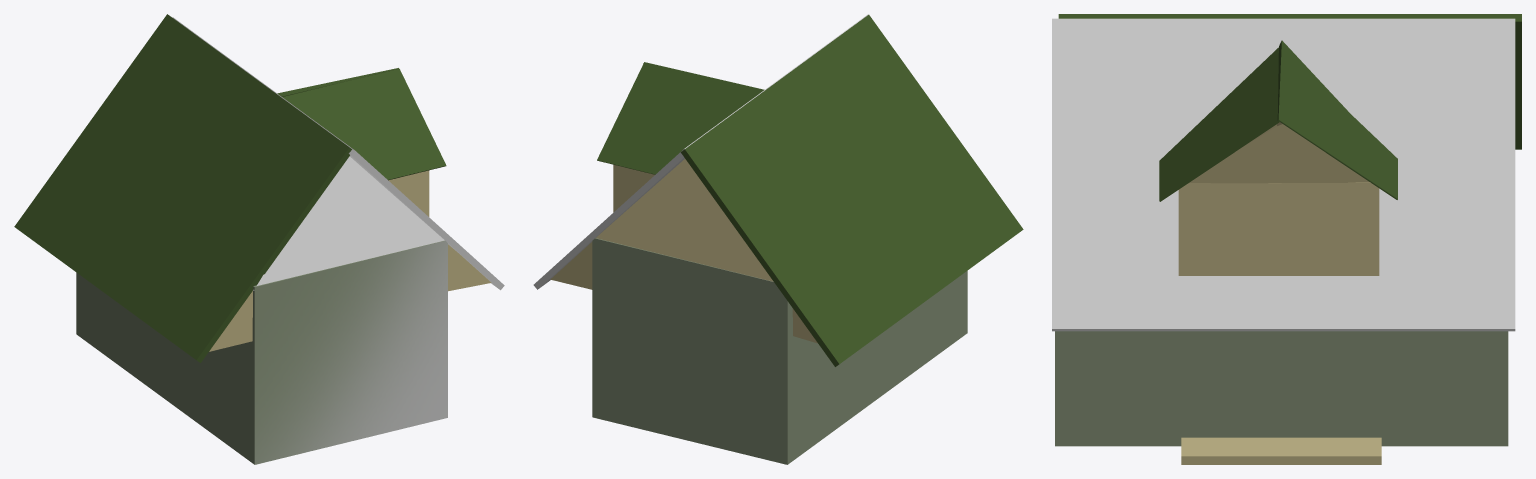
File: dombabci.glb
3 views of the same model, side by side, from view 1: azimuth 30°, elevation 25°; view 2: azimuth 150°, elevation 25°; view 3: azimuth 270°, elevation 25° (orthographic). The views are drawn at different scales.
Parts seen in each view (by area): view 1: Cube.007, Cube, Cube.011, Cube.006, Cube.005, Cube.008, Cube.004, Cube.002; view 2: Cube.007, Cube, Cube.003, Cube.010, Cube.005, Cube.004, Cube.002; view 3: Cube.005, Cube, Cube.002, Cube.003, Cube.006, Cube.009, Cube.001, Cube.007.
Boxes of the visible parts, x1,y1,x2,y2 form: Cube.007: (14,14,351,362); Cube: (76,240,447,464); Cube.011: (253,156,444,290); Cube.006: (282,69,446,180); Cube.005: (173,17,504,290); Cube.008: (209,291,252,351); Cube.004: (448,244,491,291); Cube.002: (388,170,429,216); Cube.007: (680,15,1023,366); Cube: (592,238,967,464); Cube.003: (597,62,764,174); Cube.010: (596,159,773,281); Cube.005: (533,14,871,289); Cube.004: (550,242,592,289); Cube.002: (613,164,654,212); Cube.005: (1052,18,1515,331); Cube: (1055,331,1508,446); Cube.002: (1178,182,1379,275); Cube.003: (1277,40,1397,199); Cube.006: (1159,47,1279,201); Cube.009: (1188,122,1369,183); Cube.001: (1181,437,1381,464); Cube.007: (1058,14,1521,149).
Size of the model in its own units: 13.23 by 12.12 by 13.86.
11 materials, 11 textured.
